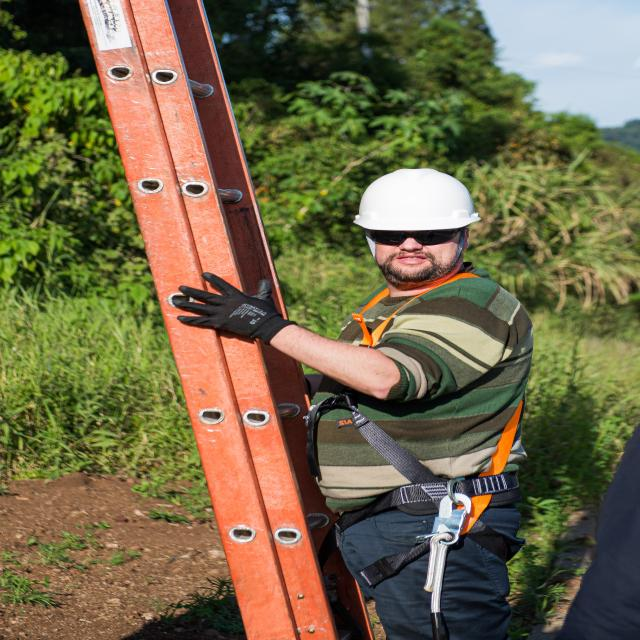capacete: (351, 166, 488, 236)
corda de vida: (288, 270, 533, 588)
luva: (175, 271, 298, 349)
